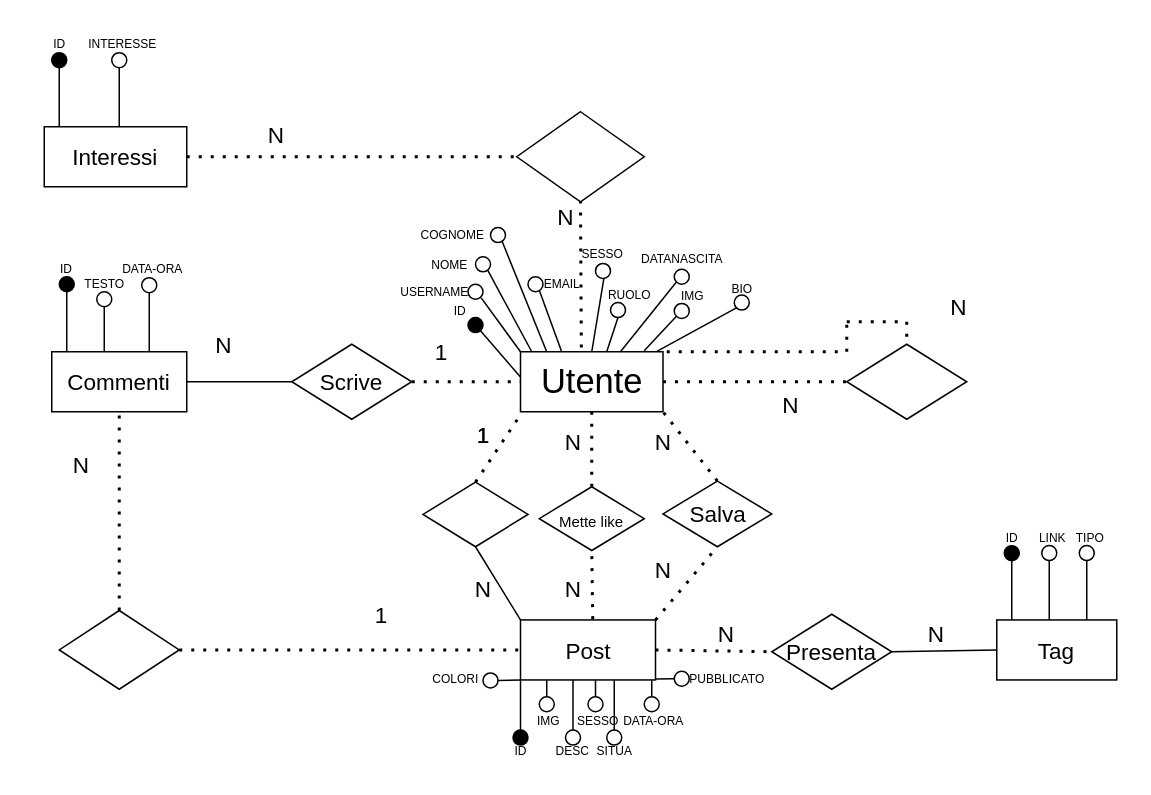
The diagram is 1151 pixels wide and 795 high, and some of its shapes have lost their labels. The shapes that lost their labels are listed below. From the top down, each one's box as (x1, y1, x2, y2) in pixels, then its label:
(515, 110, 644, 202): Possiede
(845, 343, 967, 419): Segue
(422, 481, 528, 547): Pubblica
(58, 609, 179, 689): Inserito
